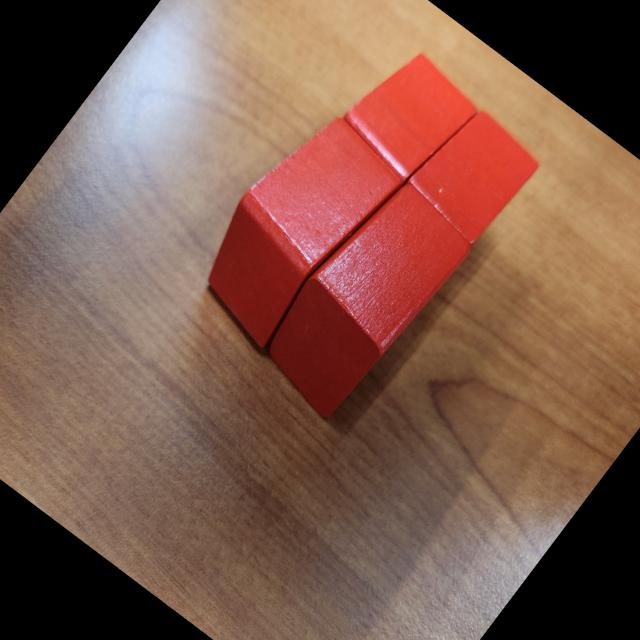red: (172, 97, 412, 360), (244, 168, 482, 430), (323, 35, 488, 205), (396, 97, 546, 251)
